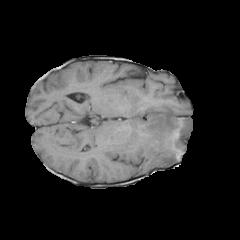glioma: (133, 109, 192, 166)
